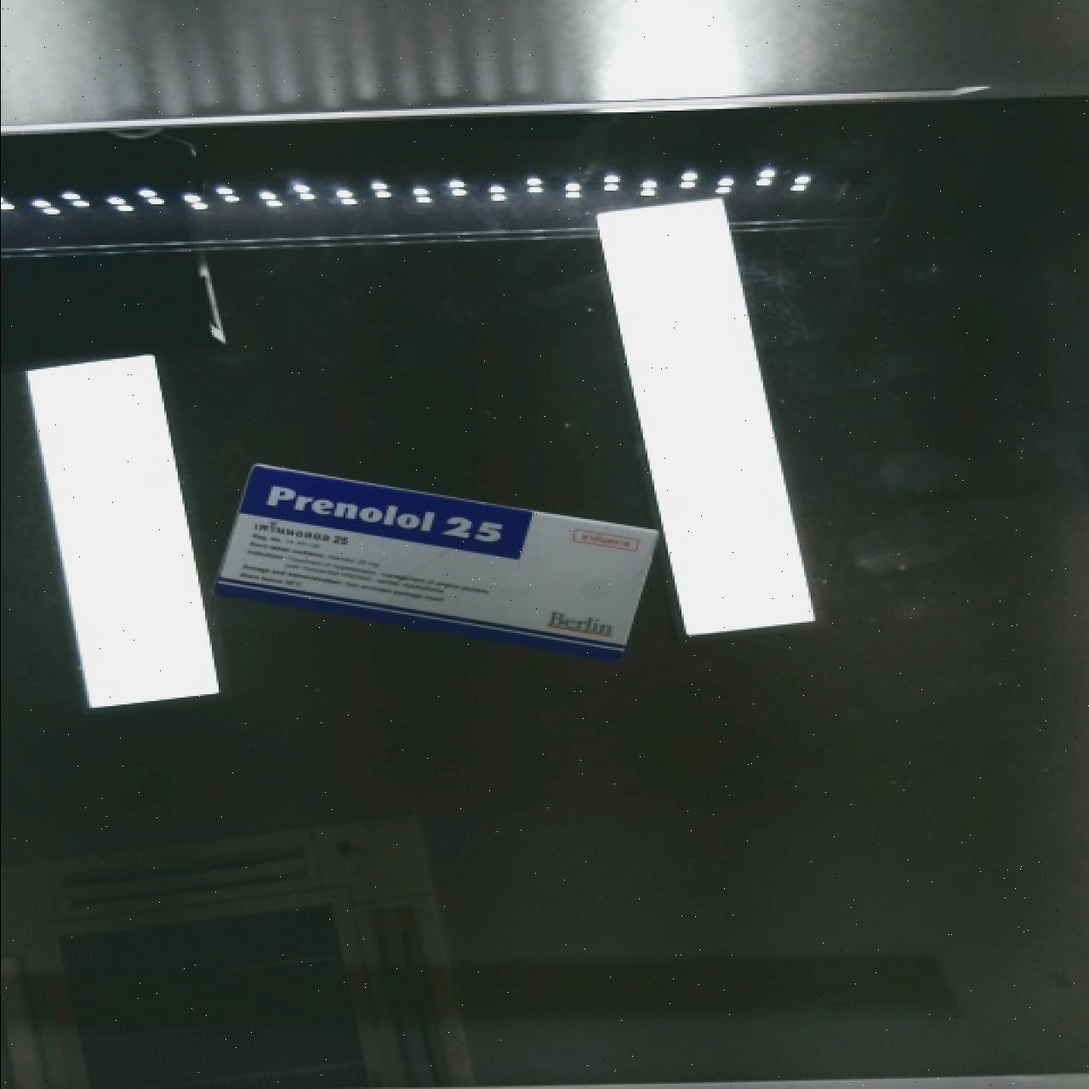medicine_label_obb: (250, 467, 532, 563)
